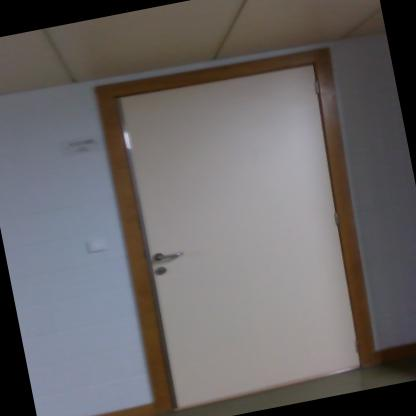closed: (88, 31, 408, 415)
